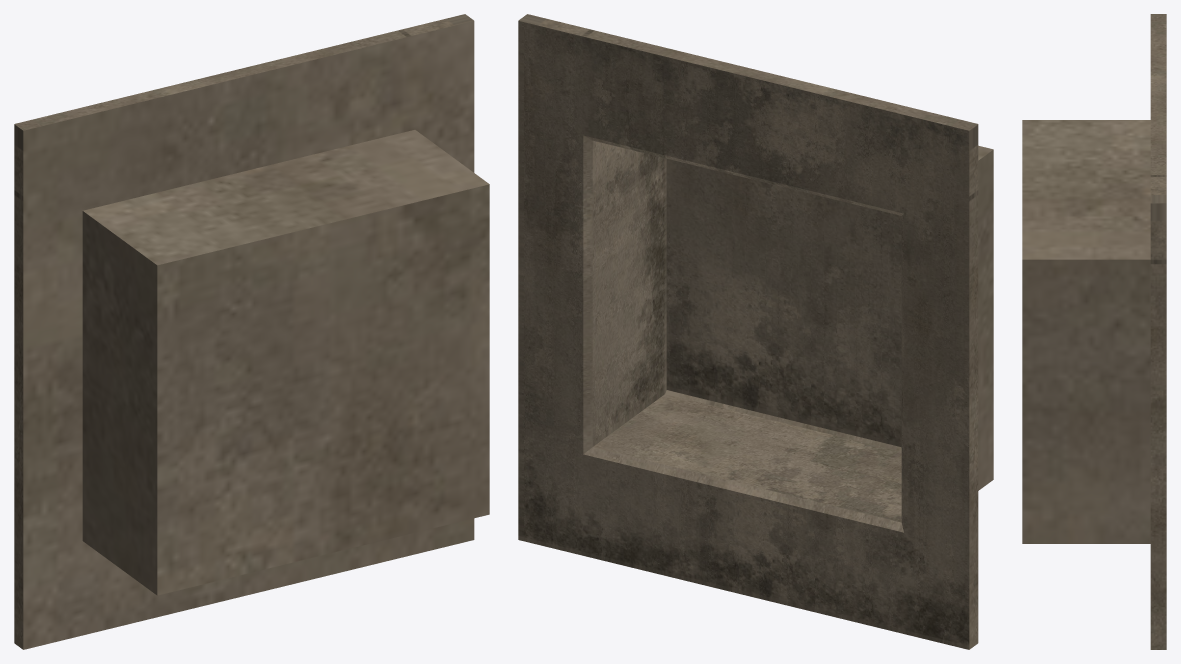
The model's file is SM_BunkerWall_2m_B.glb.
The picture shows the model from 3 angles, left to right: view 1: azimuth 30°, elevation 25°; view 2: azimuth 150°, elevation 25°; view 3: azimuth 270°, elevation 25°; orthographic projection. The views are drawn at different scales.
Parts seen in each view (by area): view 1: Bunker_Wall.001; view 2: Bunker_Wall.001; view 3: Bunker_Wall.001.
Boxes of the visible parts, x1,y1,x2,y2 form: Bunker_Wall.001: (14, 14, 489, 649); Bunker_Wall.001: (518, 14, 993, 649); Bunker_Wall.001: (1022, 14, 1166, 649).
Size of the model in its own units: 2 by 2.2 by 0.6439.
Materials: 1 (1 with a texture image).
